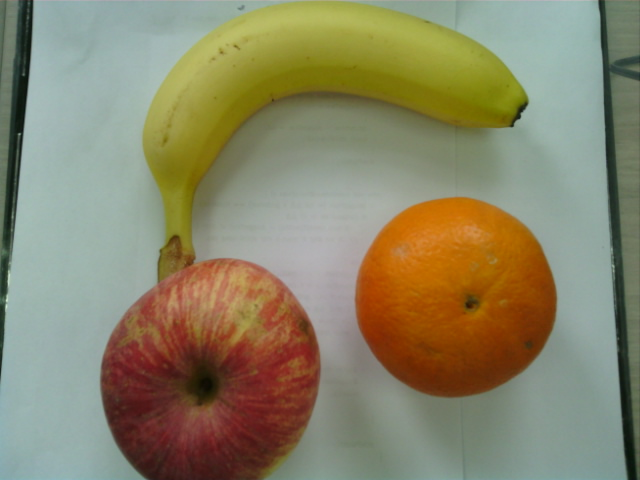normal_apple: (99, 255, 325, 480)
normal_banana: (141, 1, 530, 190)
normal_orange: (355, 196, 560, 401)
